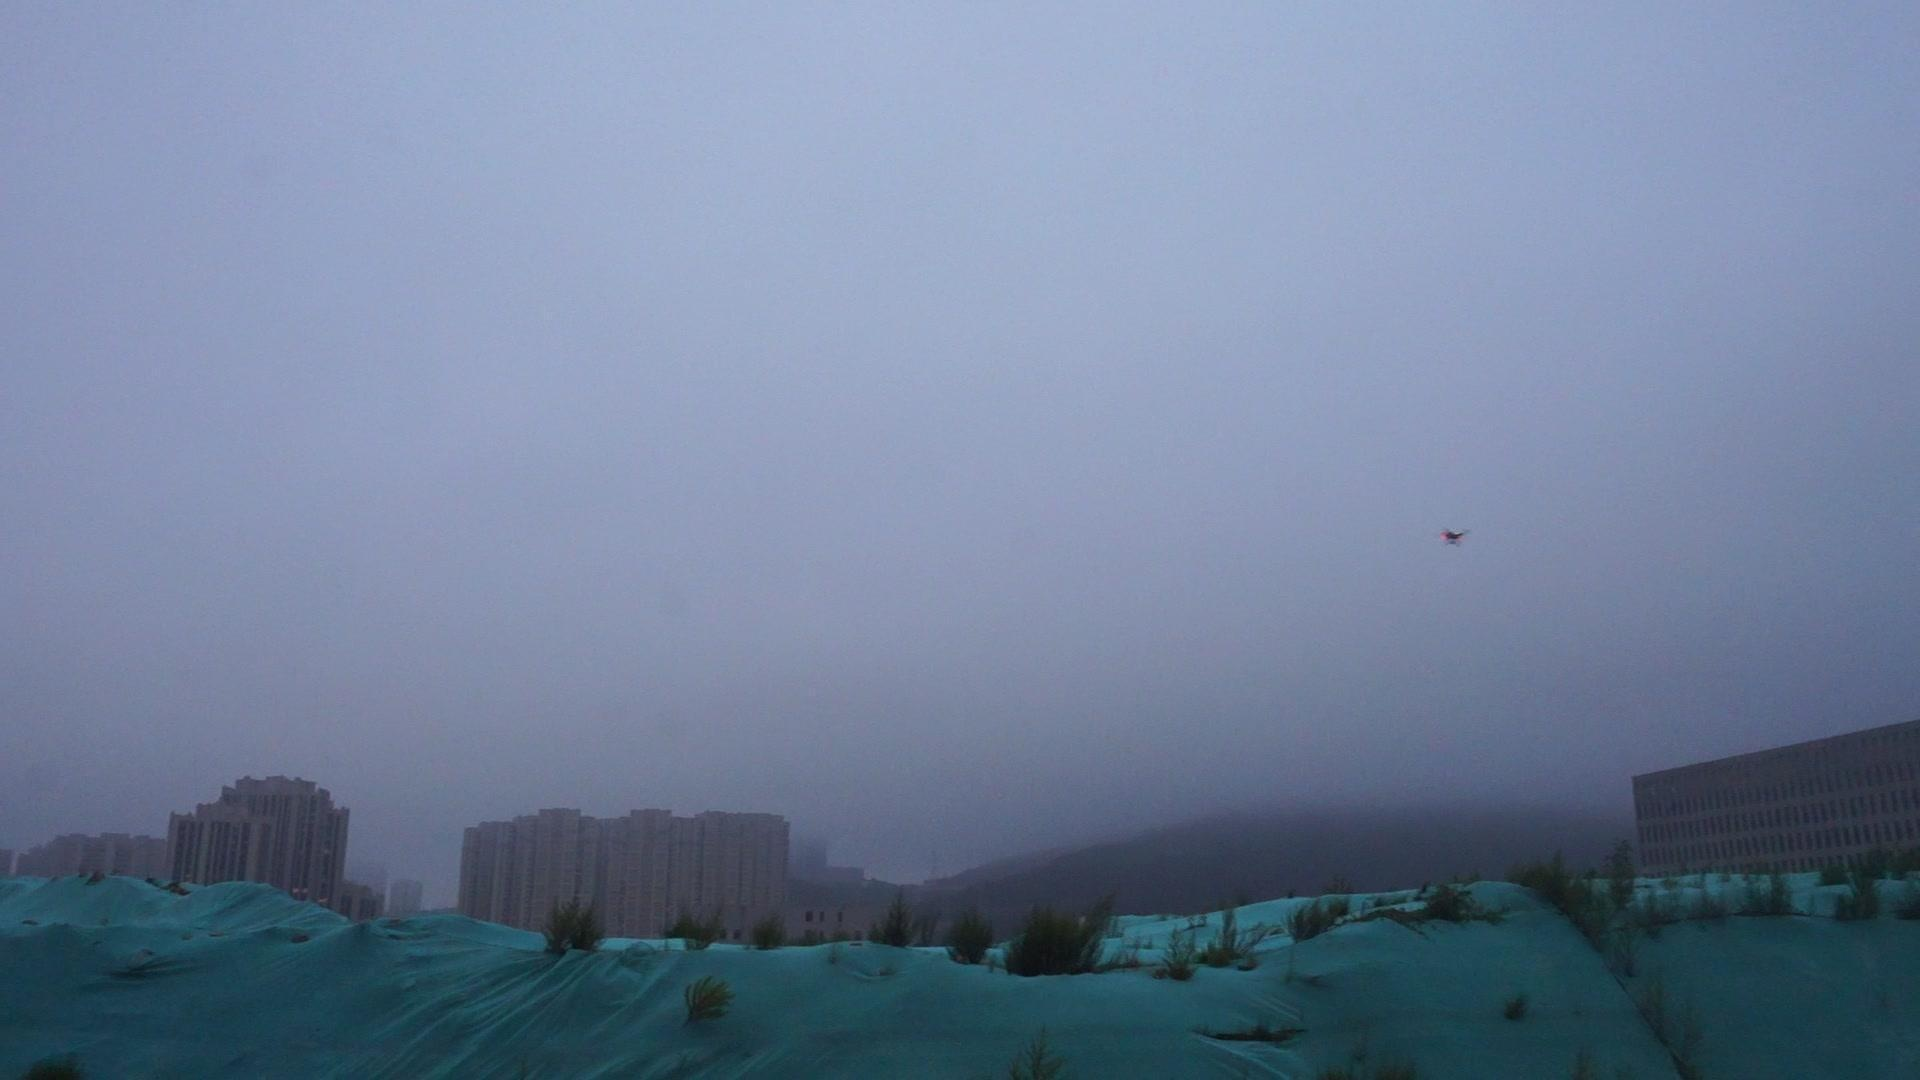UAV: (1440, 529, 1473, 549)
